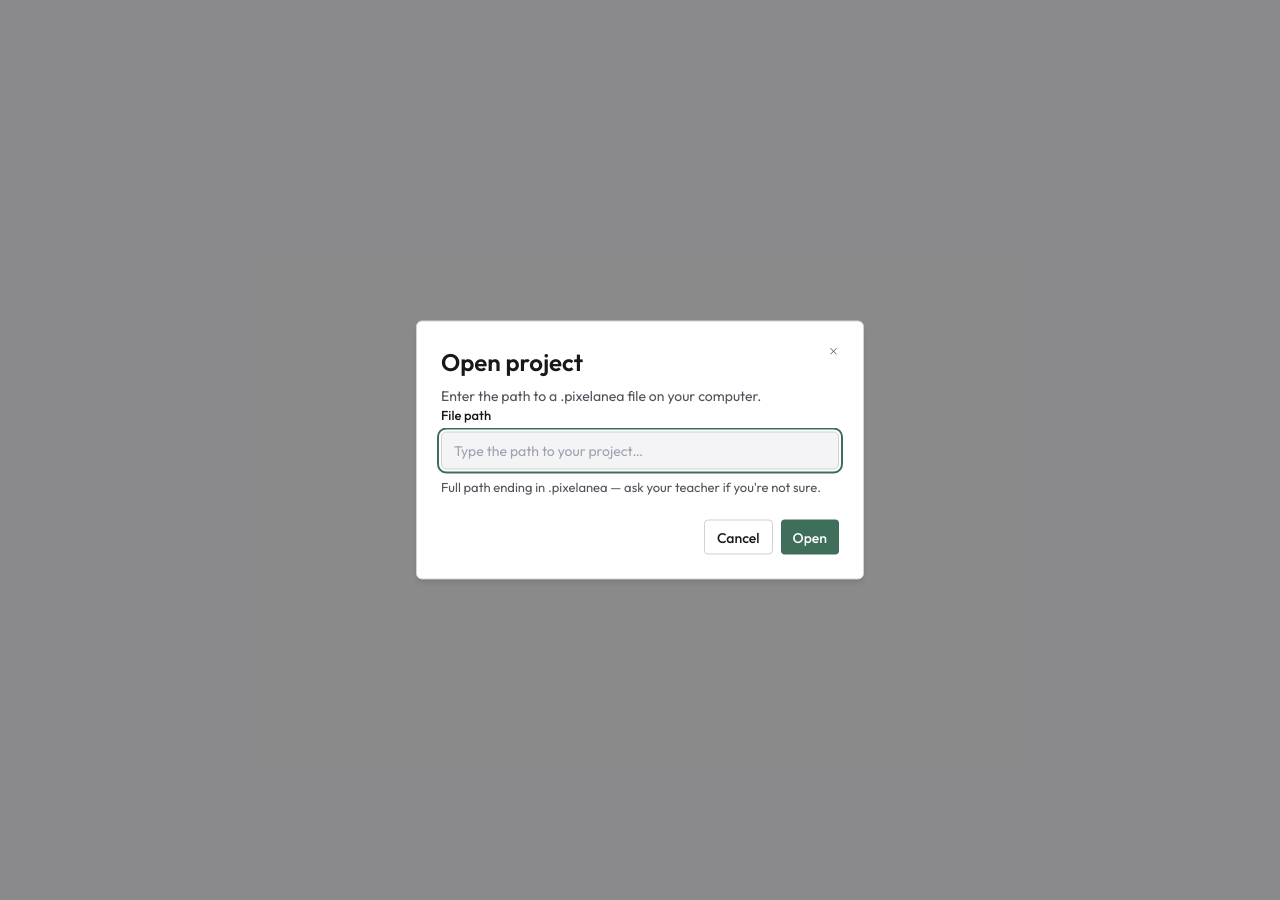
ProjectPathDialog › rejects non-.pixelanea extensions in open mode
Type "/tmp/art.png" into the field labelled "File path" at (640, 450), box [441, 432, 839, 470]
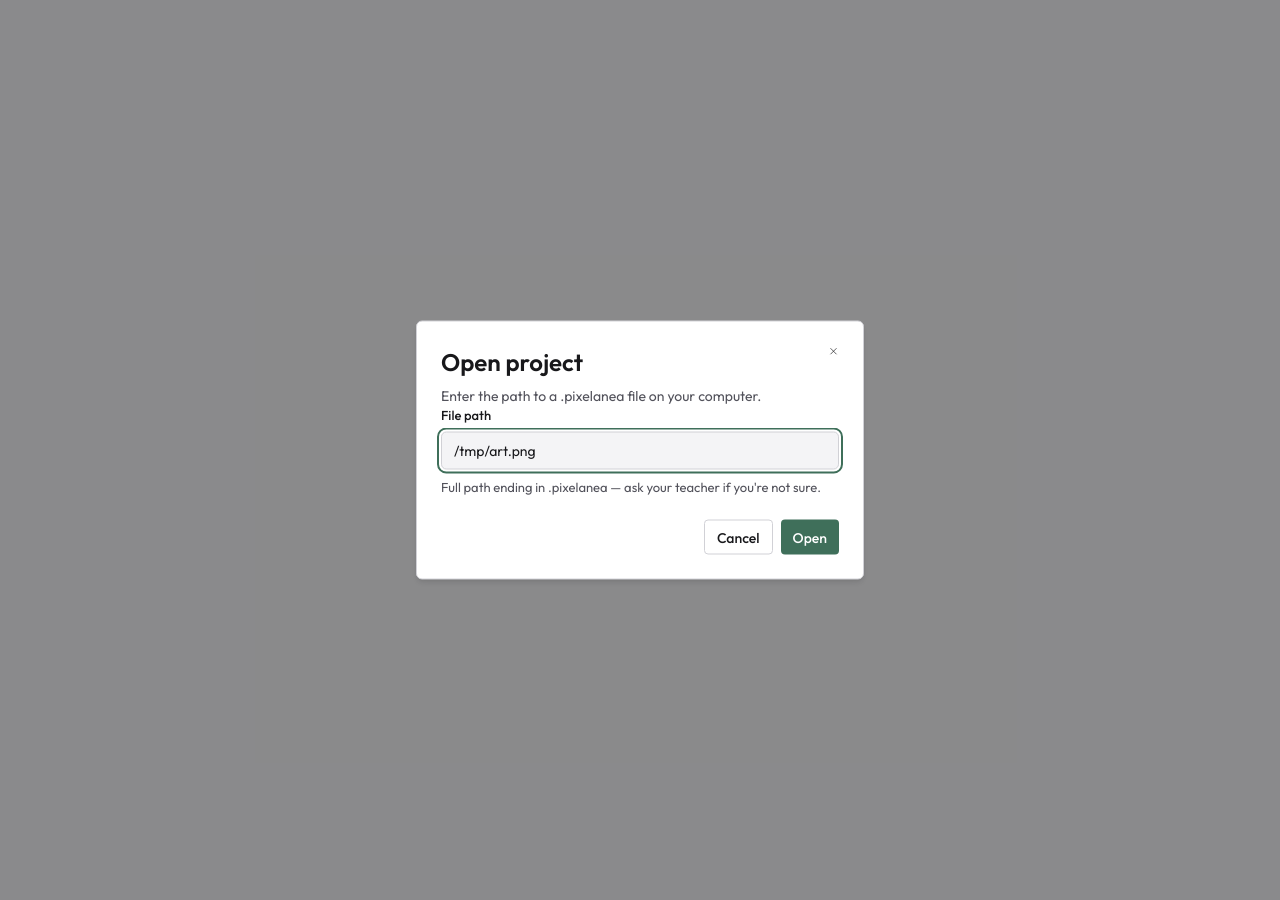
Click the button "Open" at (810, 537), box [781, 520, 839, 554]
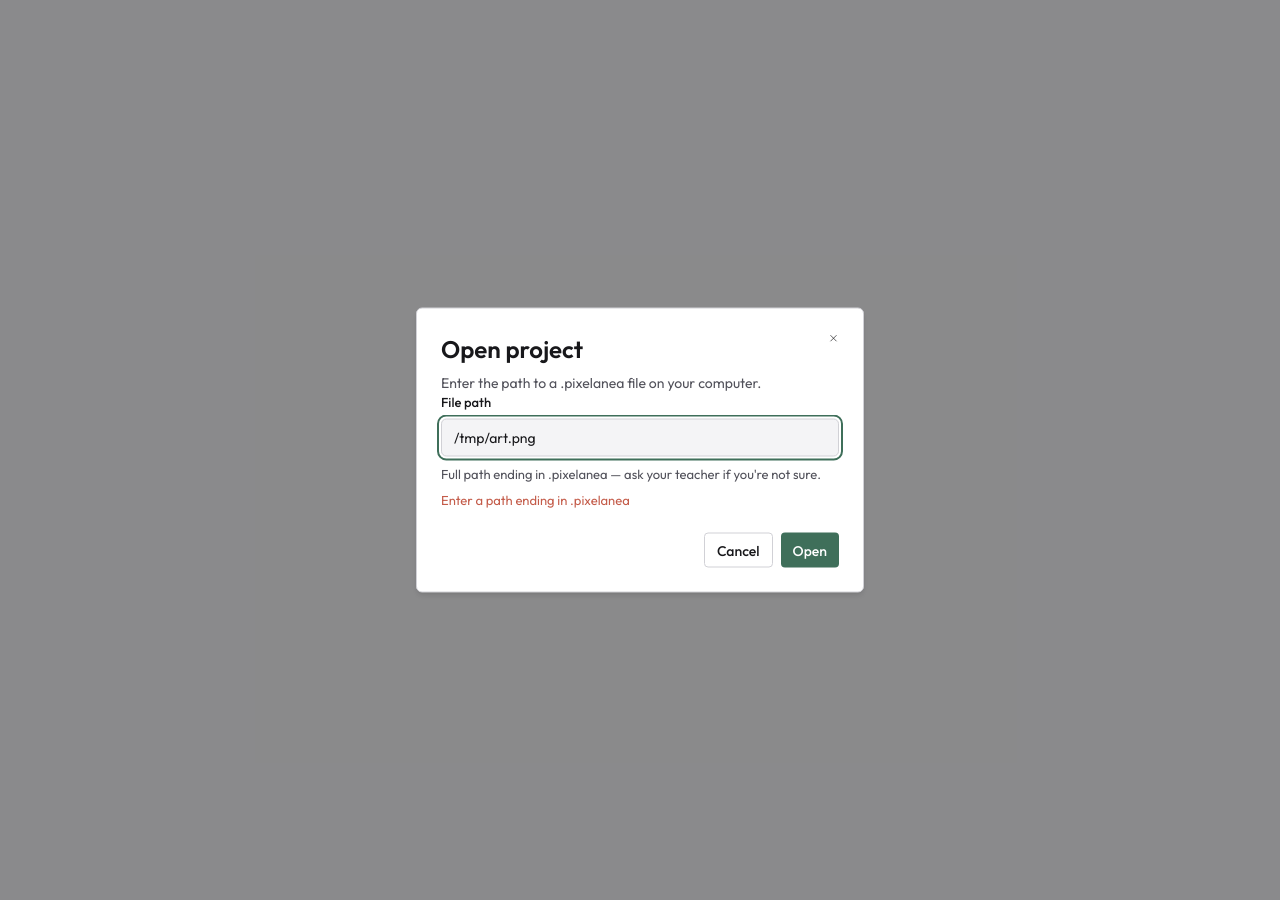
Now the text "Enter a path ending in .pixelanea" is shown, box [441, 492, 630, 508]
